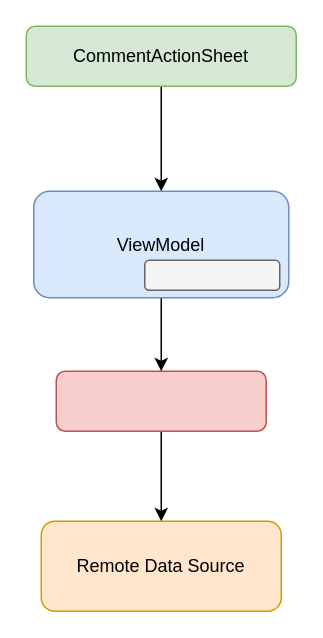
Image size: 323x638. Some labels were removed from this diagram. The centre of each missing label's shape, as x and y in pixels:
"LiveData" goes at pixel 211 274.
"Repository" goes at pixel 160 400.
